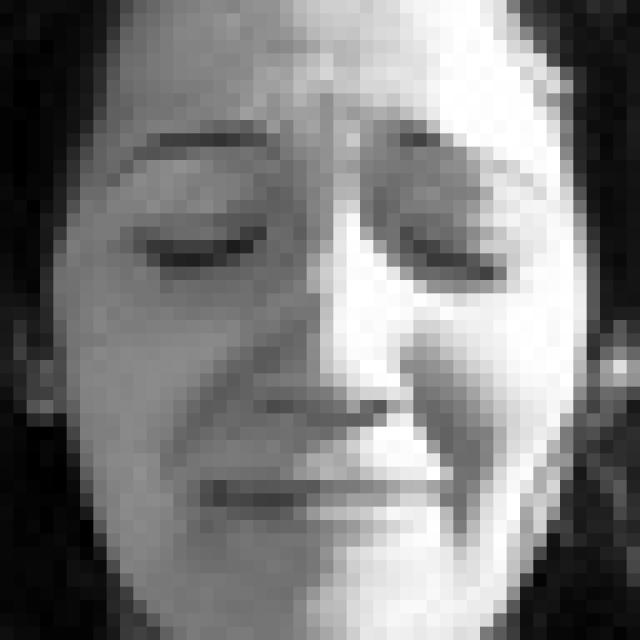sad: (102, 98, 553, 548)
